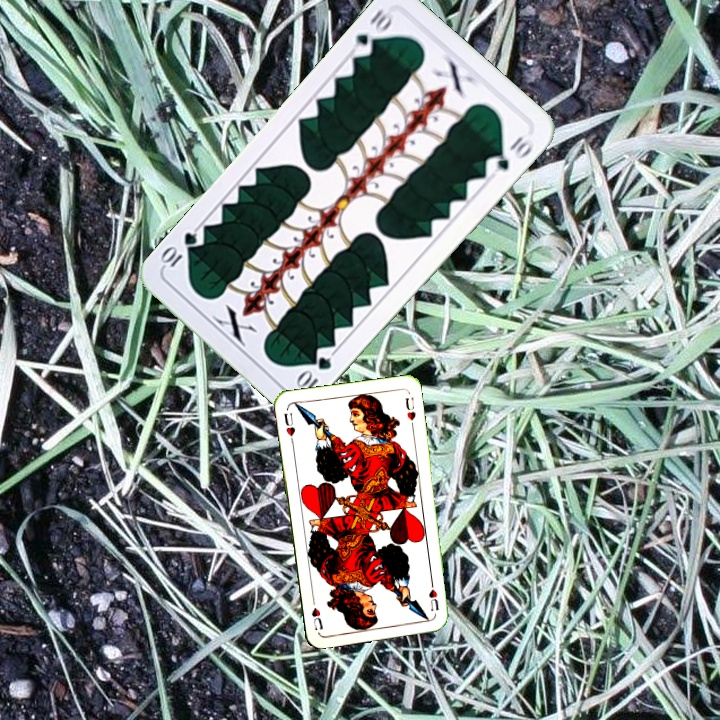G10: (347, 4, 397, 60), (292, 352, 335, 396)
HU: (280, 409, 298, 446), (425, 585, 441, 614)
